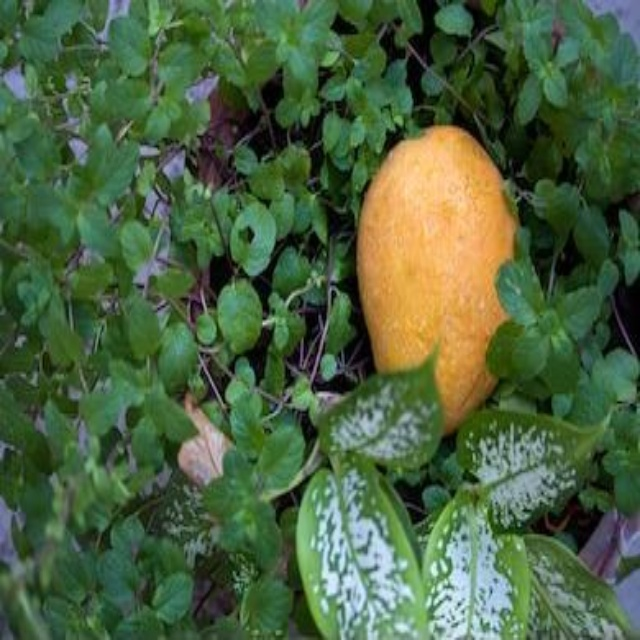mango: (357, 124, 515, 441)
